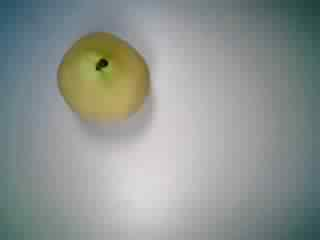pear: (47, 26, 158, 132)
